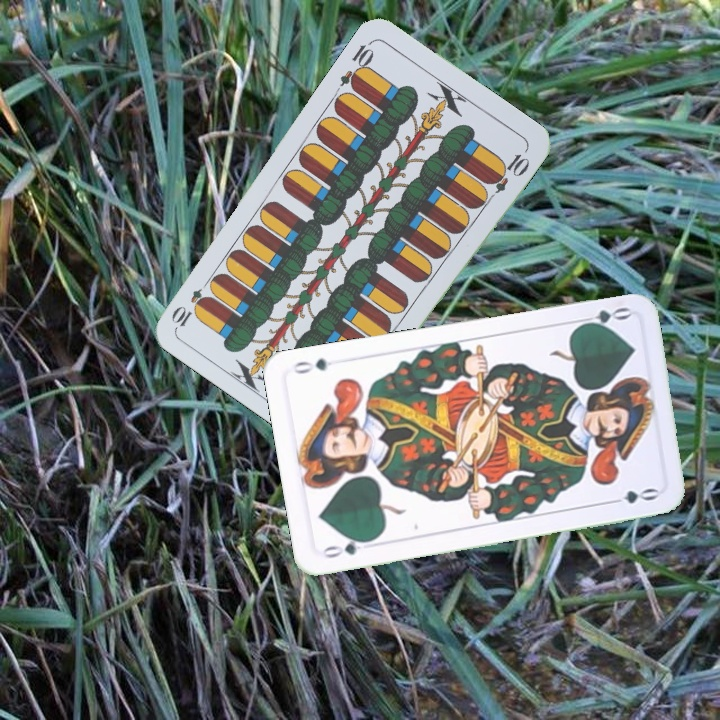E10: (336, 37, 377, 93)
GO: (573, 303, 632, 331), (319, 534, 376, 561)
